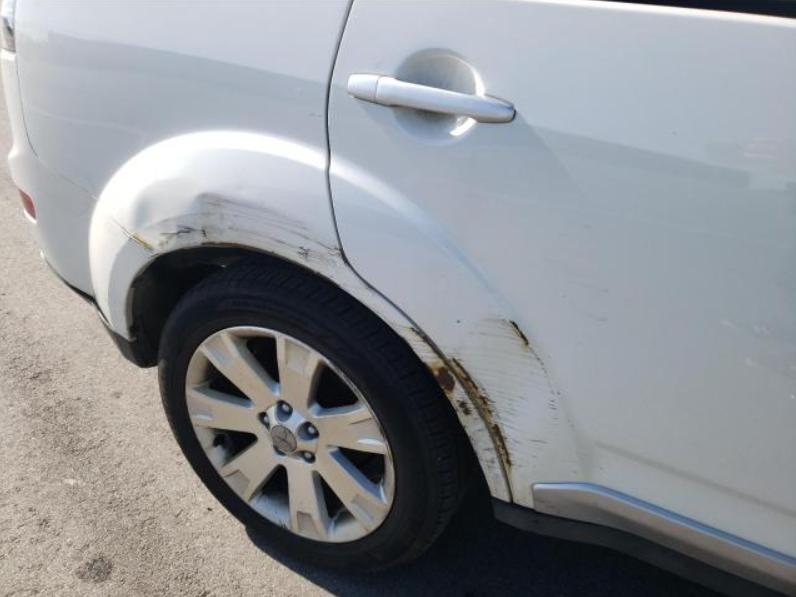Back-bumper: (0, 50, 157, 363)
Back-door: (326, 0, 795, 595)
Back-wheel: (158, 252, 482, 573)
Quarter-panel: (14, 0, 508, 501)
Rocker-panel: (492, 497, 795, 596)
Tail-light: (0, 0, 16, 51)
